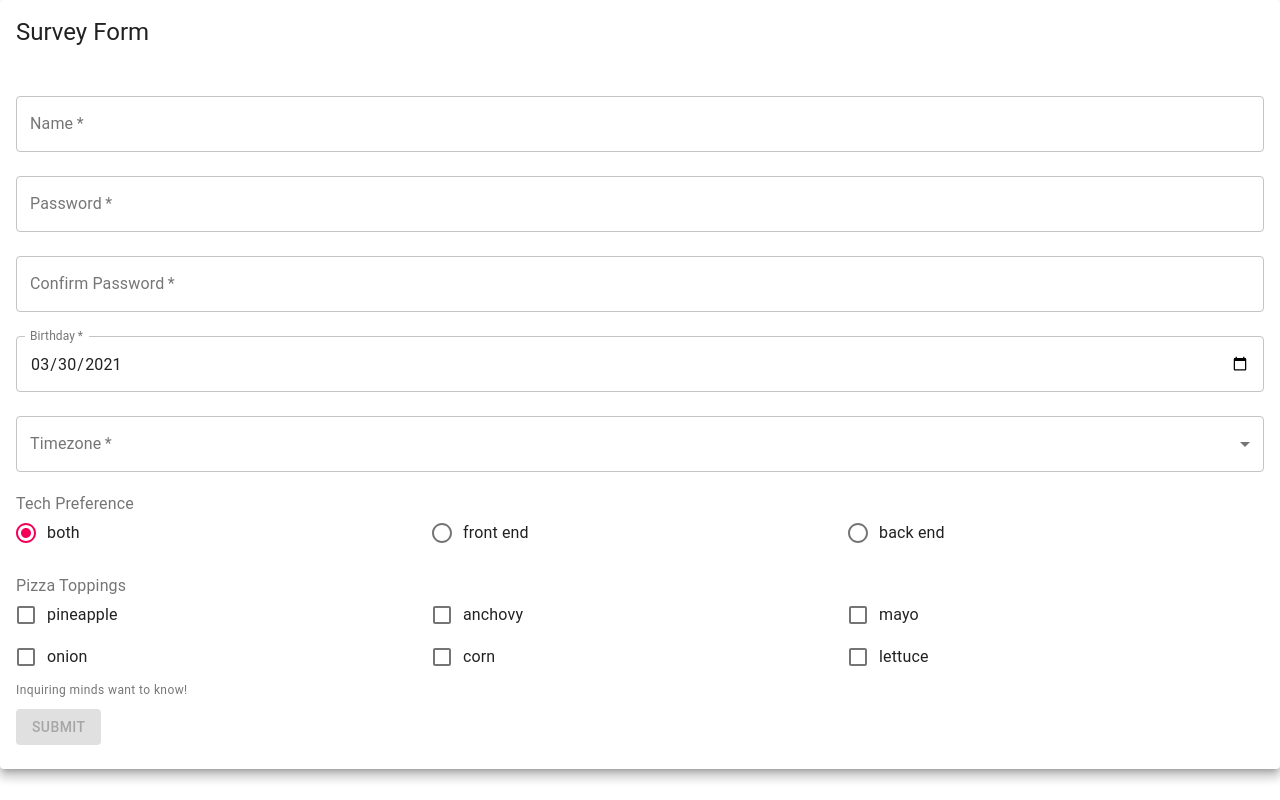
SurveyForm › handles name validation
In the password field with test id "password": (640, 204) x1=16 y1=176 x2=1264 y2=232, type "def"
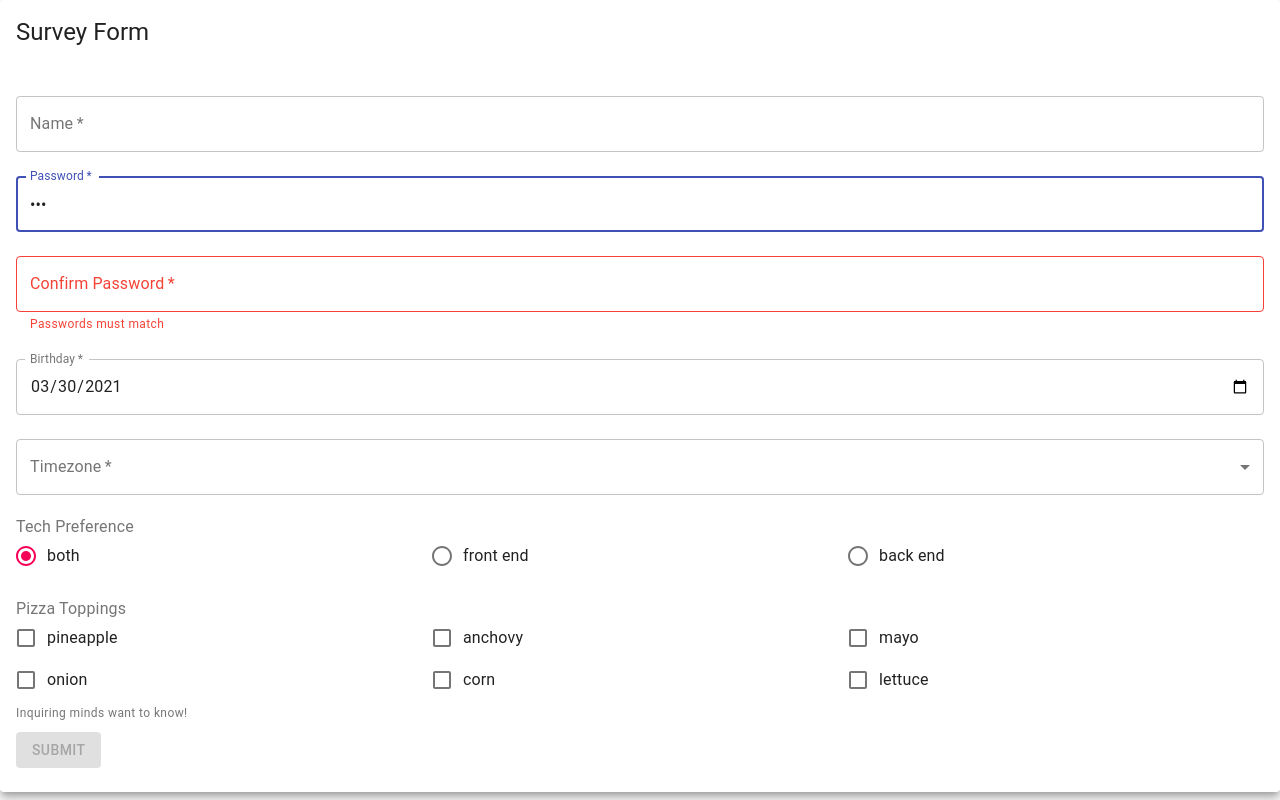
In the password field with test id "confirmPassword": (640, 284) x1=16 y1=256 x2=1264 y2=312, type "def"
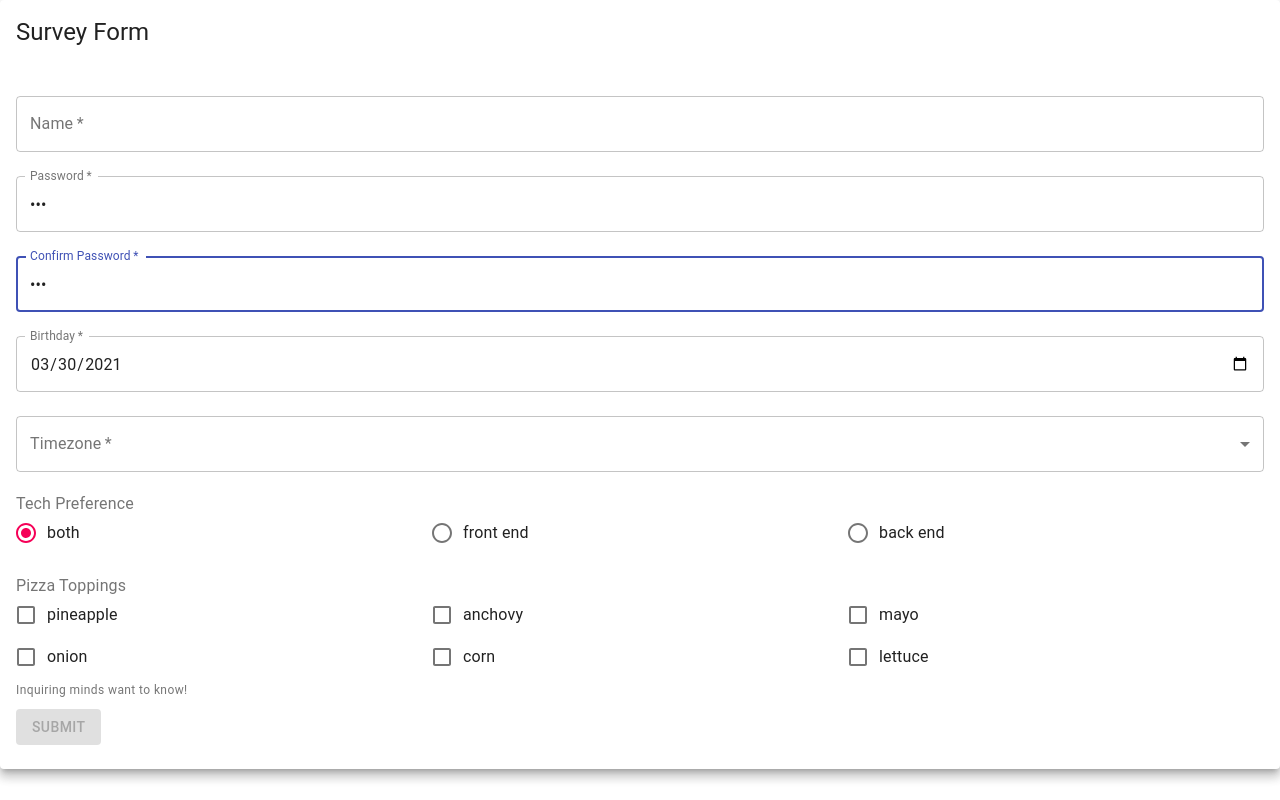
Expected: the button with test id "submitBtn" is disabled, x1=16 y1=709 x2=101 y2=745
Note: enabled once name is entered
In the field with test id "name": (640, 124) x1=16 y1=96 x2=1264 y2=152, type "abc"
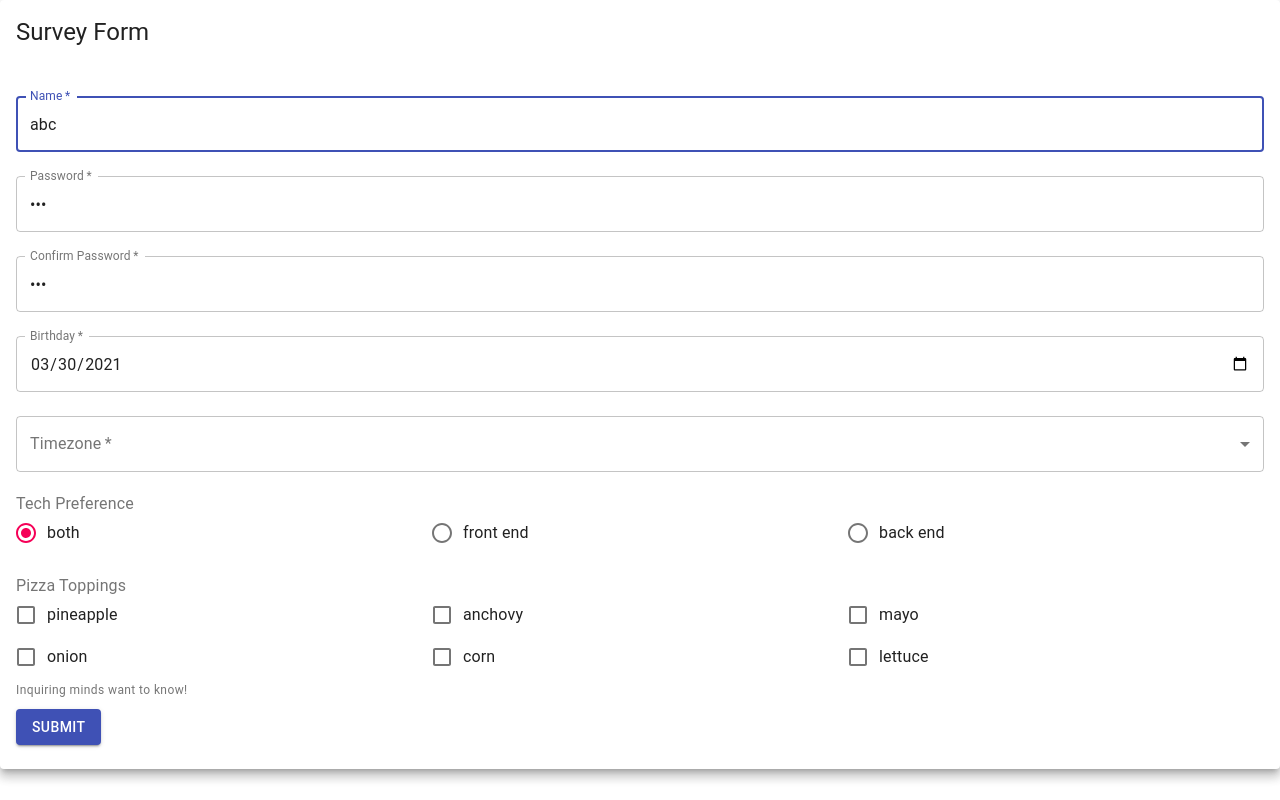
Expected: the button with test id "submitBtn" is enabled, x1=16 y1=709 x2=101 y2=745
